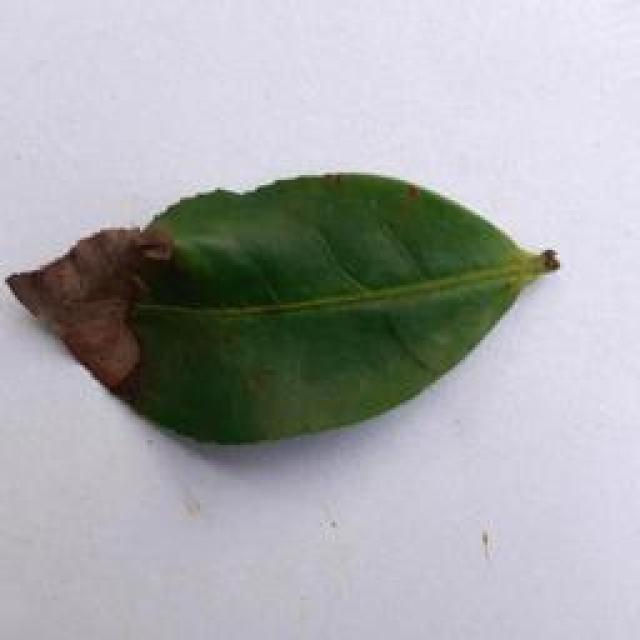Brown Blight: (3, 162, 575, 458)
